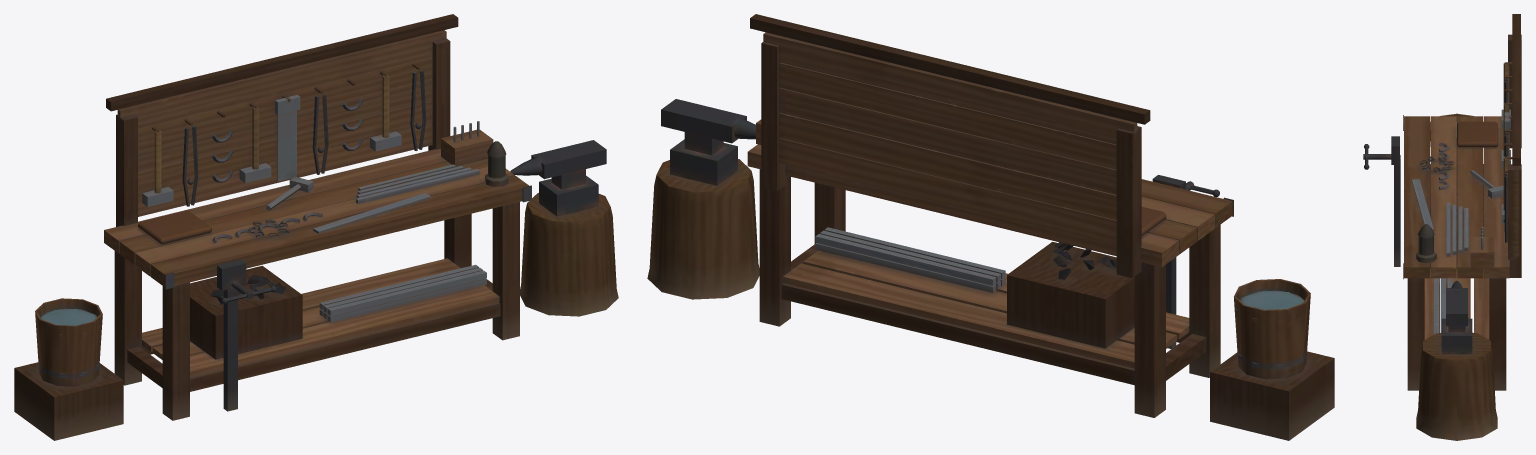
File: workbench-forge.glb
3 views of the same model, side by side, from view 1: azimuth 30°, elevation 25°; view 2: azimuth 150°, elevation 25°; view 3: azimuth 270°, elevation 25° (orthographic). The views are drawn at different scales.
Visible parts, largest first — view 1: workbench-forge; view 2: workbench-forge; view 3: workbench-forge.
Part boxes in pixels (<box>): workbench-forge: <box>14,14,618,440</box>; workbench-forge: <box>647,14,1334,440</box>; workbench-forge: <box>1363,14,1521,440</box>.
Bounding box in the file's own units: 3.33 × 1.5 × 0.9302.
Materials: 1 (1 with a texture image).
